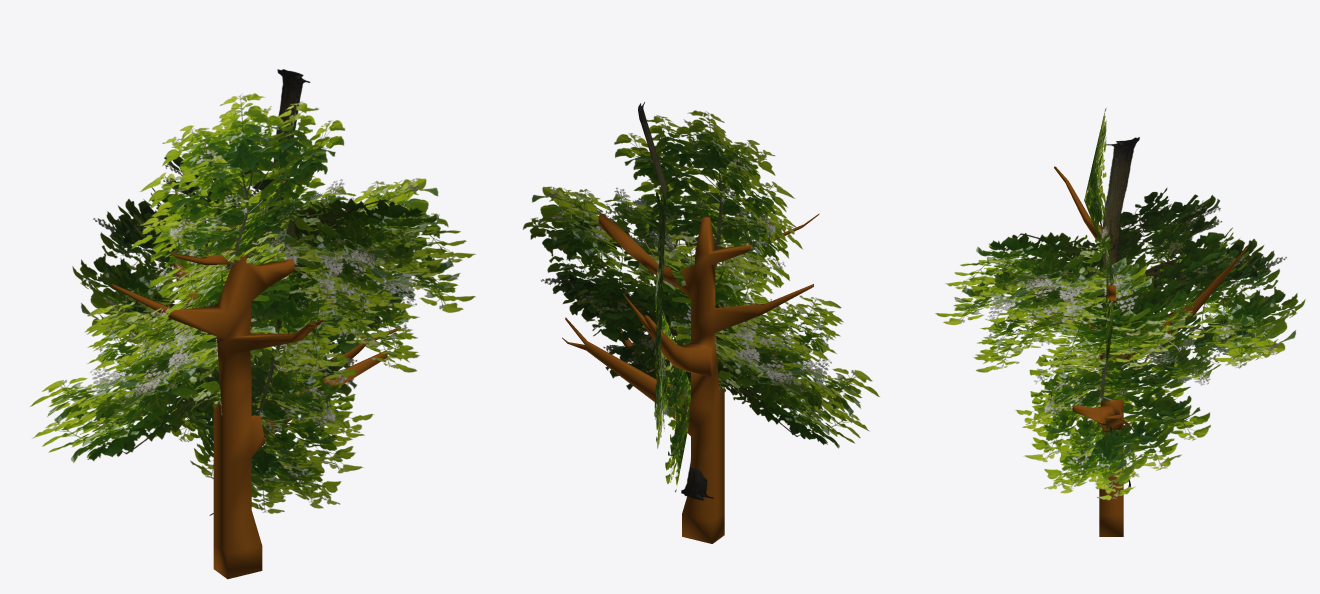
The model's file is tree.gltf.
3 views of the same model, side by side, from view 1: azimuth 30°, elevation 25°; view 2: azimuth 150°, elevation 25°; view 3: azimuth 270°, elevation 25° (orthographic). The views are drawn at different scales.
Parts seen in each view (by area): view 1: Plane, Plane.001, Cube; view 2: Plane, Cube, Plane.001; view 3: Plane.001, Cube, Plane.
Part boxes in pixels (<box>): Plane: <box>30,93,448,515</box>; Plane.001: <box>72,69,475,513</box>; Cube: <box>111,190,400,579</box>; Plane: <box>523,110,879,500</box>; Cube: <box>562,213,819,543</box>; Plane.001: <box>638,102,690,492</box>; Plane.001: <box>935,137,1305,500</box>; Cube: <box>1006,166,1246,536</box>; Plane: <box>1084,107,1130,486</box>.
Size of the model in its own units: 34.84 by 38.47 by 31.39.
3 materials, 2 textured.
